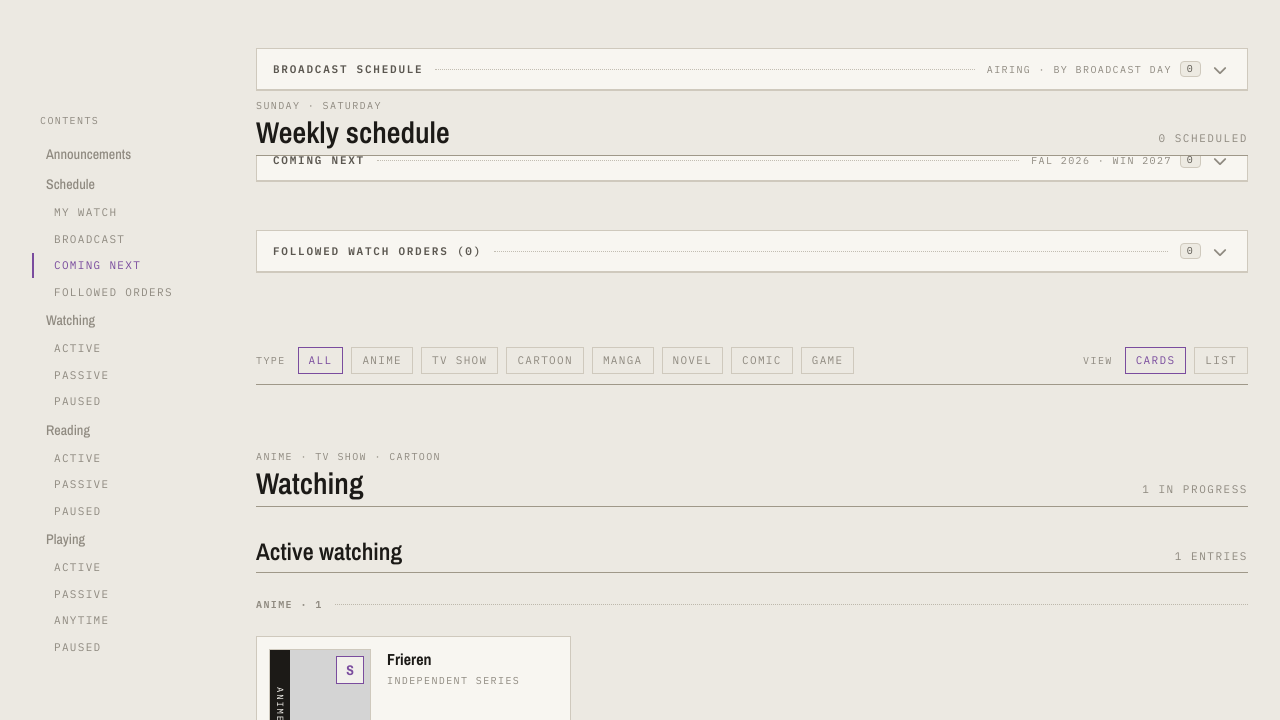
Test case: the mode is one setting for every division
The image size is (1280, 720).
(page scrolled)
expect the link "Frieren" is shown: met, box [387,649,432,669]
Click the button "List". click: [1221, 360]
box: [1194,347,1248,374]
(page scrolled)
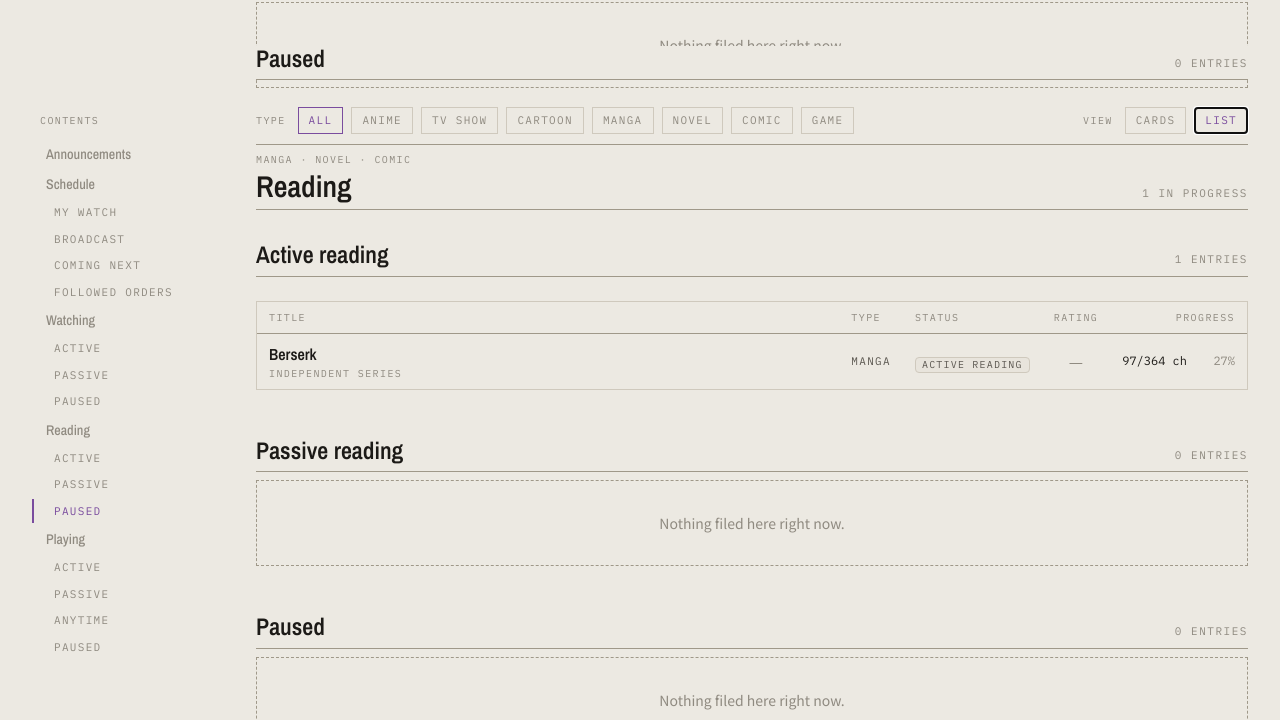
expect the text "Berserk" is shown: met, box [269,342,317,364]
